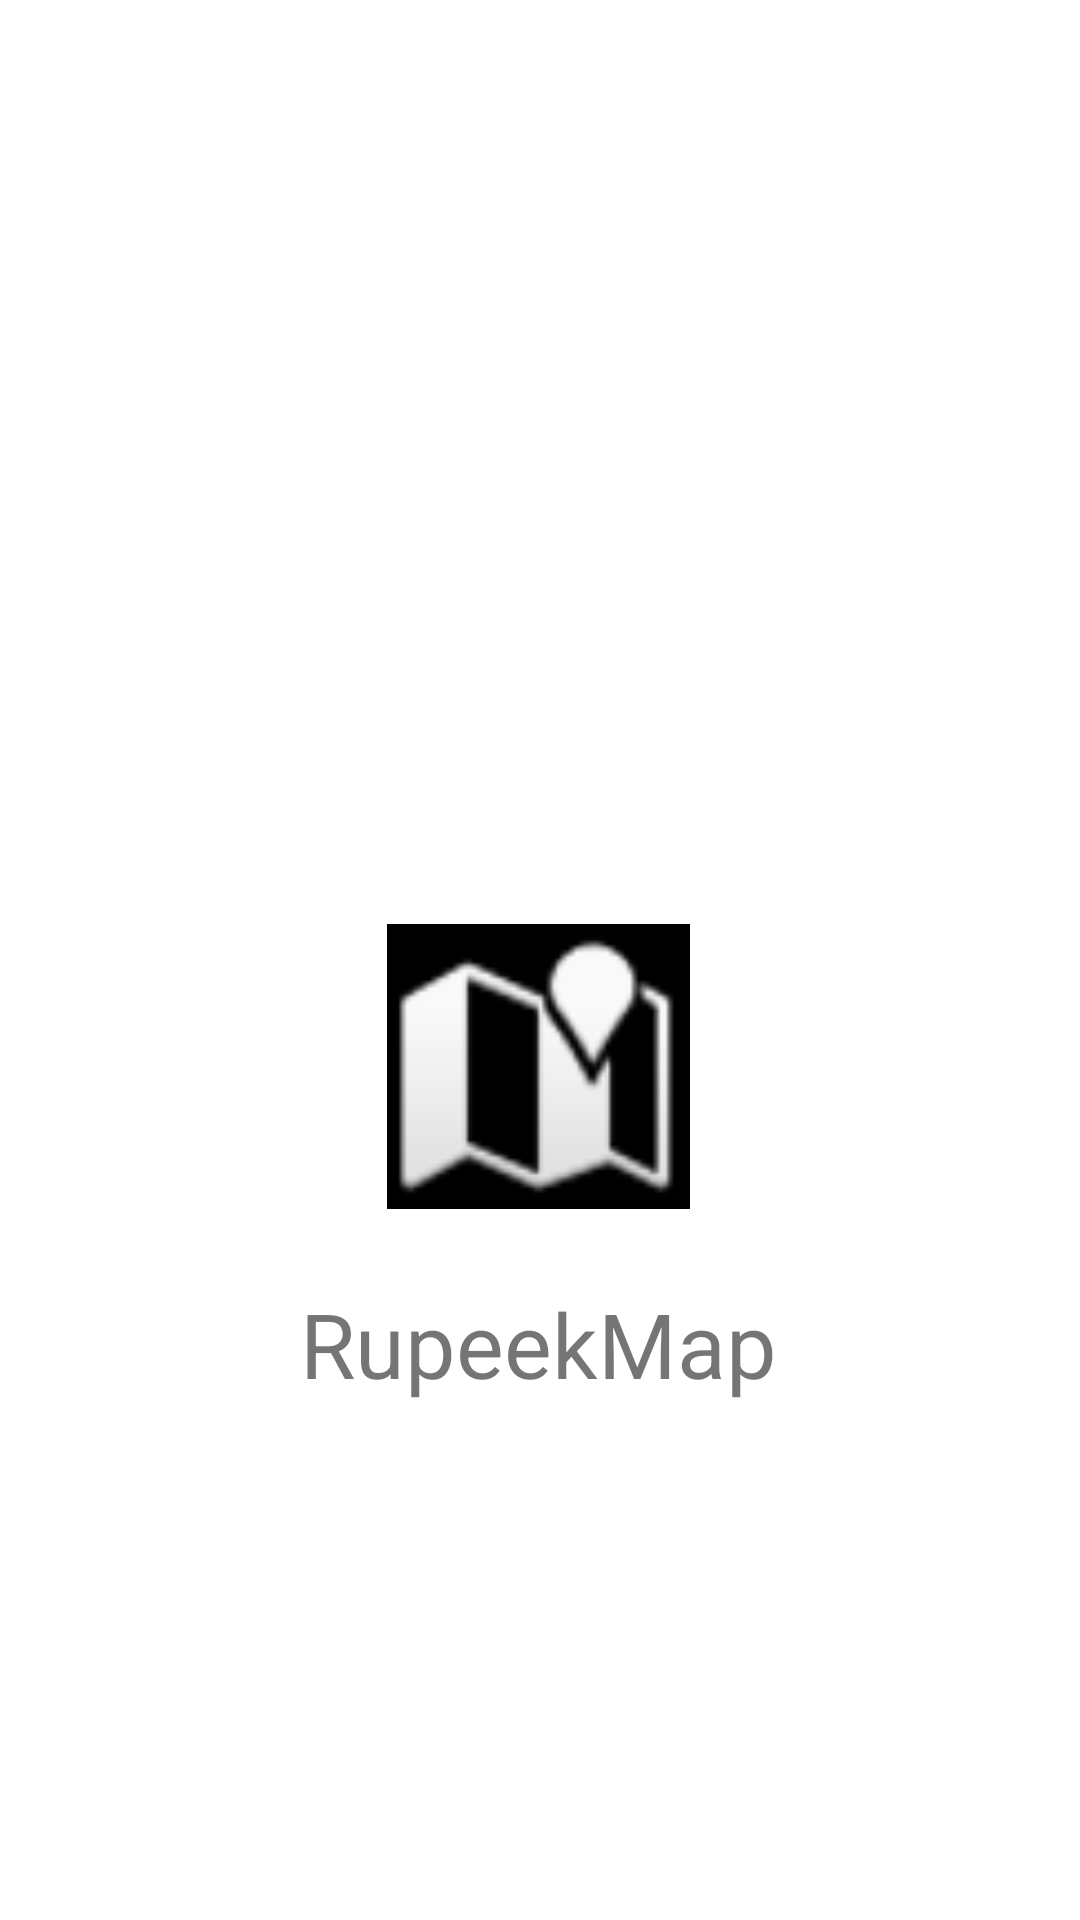

Where icons sit on this 1080 × 1920 app screen, as rect(x1, y1, x2, y2):
map: rect(387, 924, 690, 1209)
